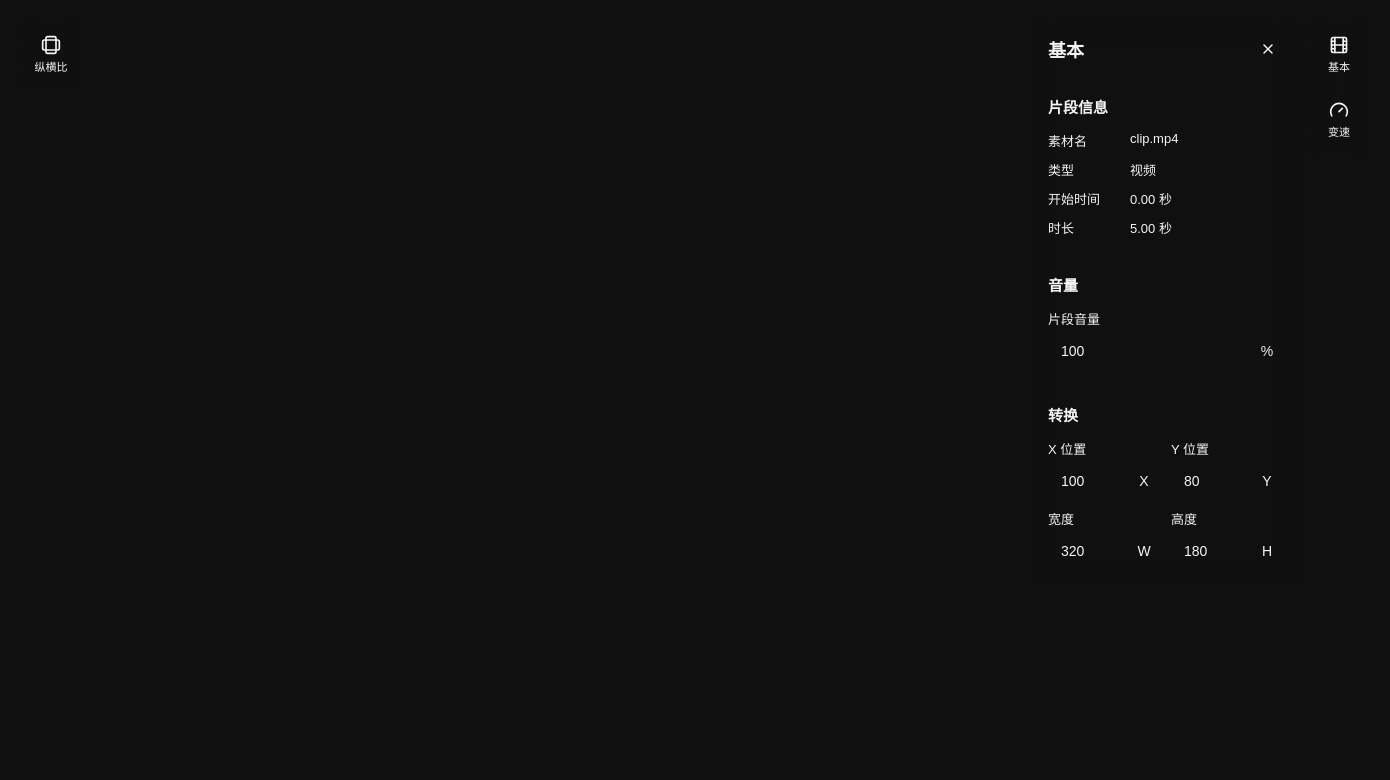
Test: PreviewPanel › shows a resized transform live and commits it from a corner handle
Press the mouse on the drawing named "视频预览" at x=695, y=319, box x1=12 y1=12 x2=1378 y2=627
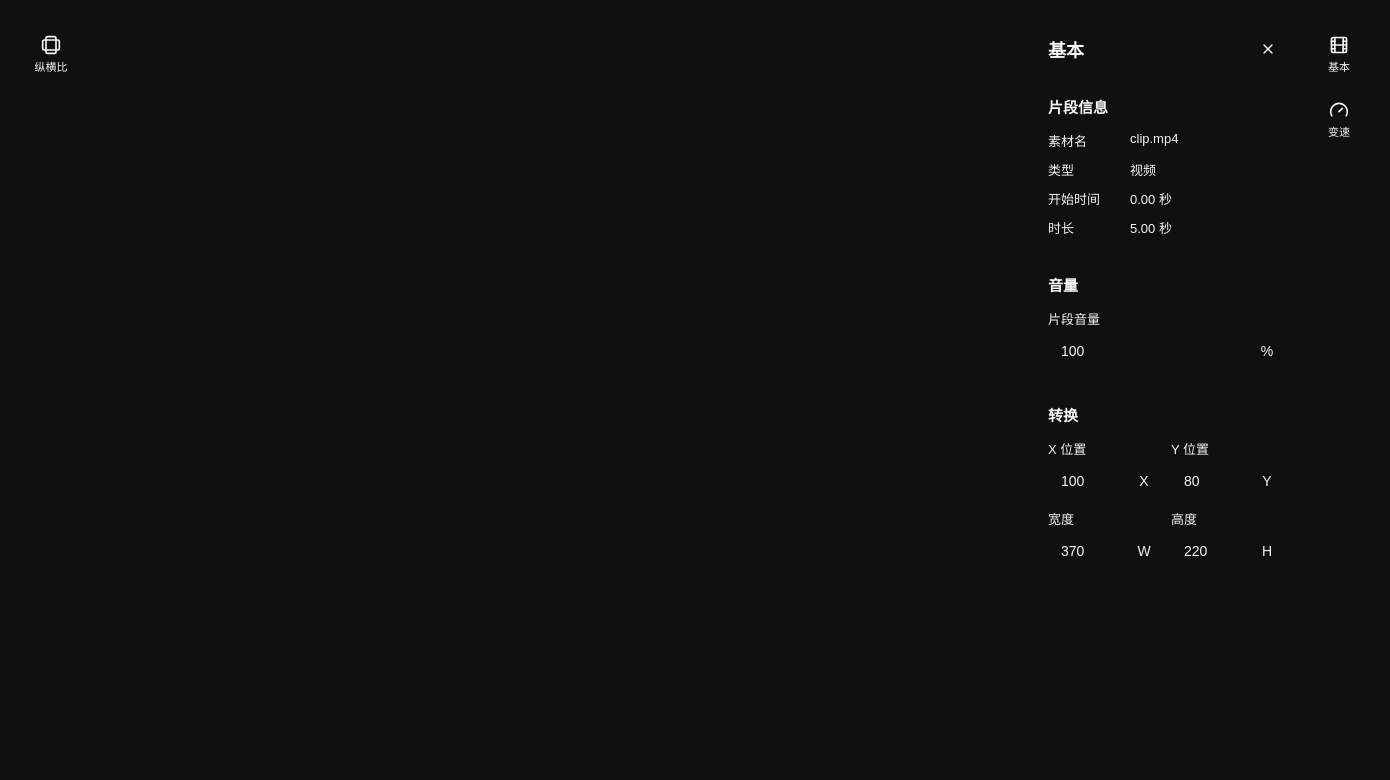
Check: the number field named "宽度" holds "370", box x1=1049 y1=536 x2=1128 y2=566
Check: the number field named "高度" holds "220", box x1=1172 y1=536 x2=1251 y2=566
